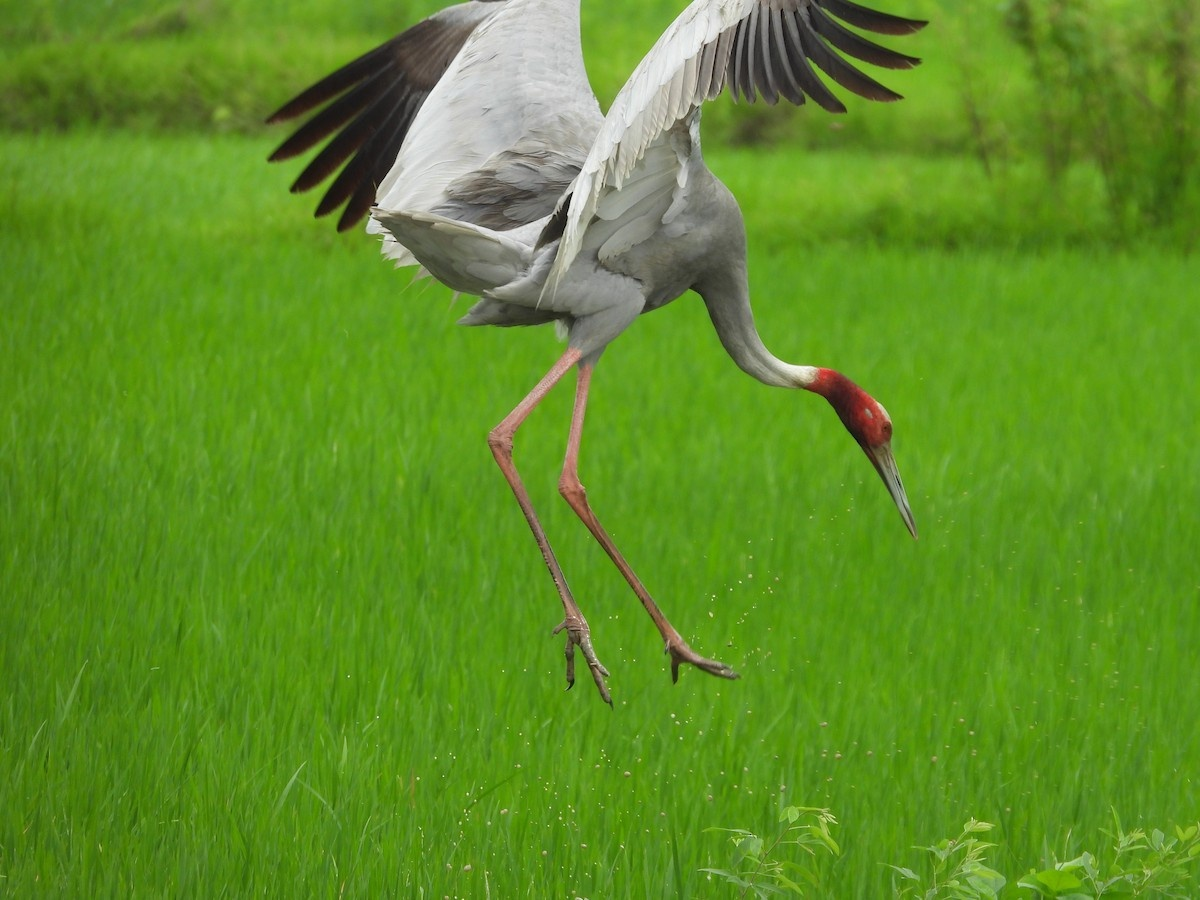crane: (268, 3, 956, 727)
